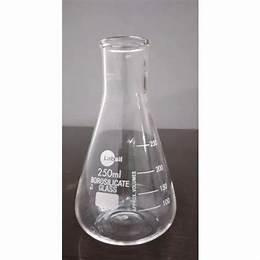Titrarion: (71, 17, 180, 246)
